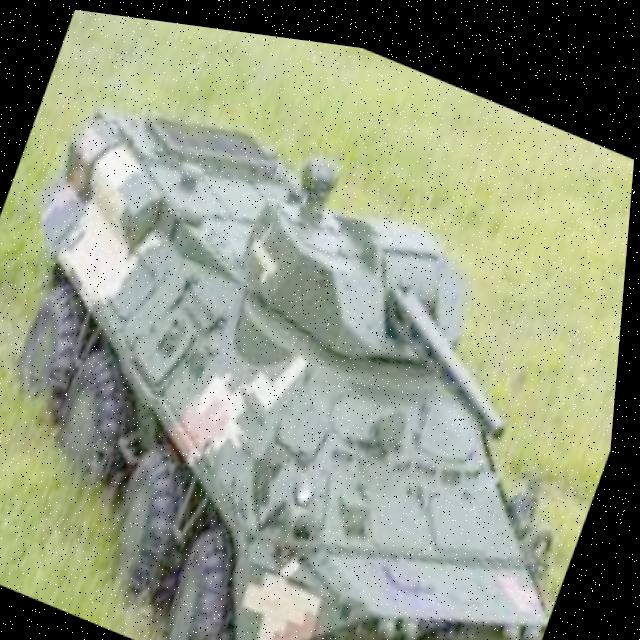MIL_APC: (0, 39, 638, 640)
